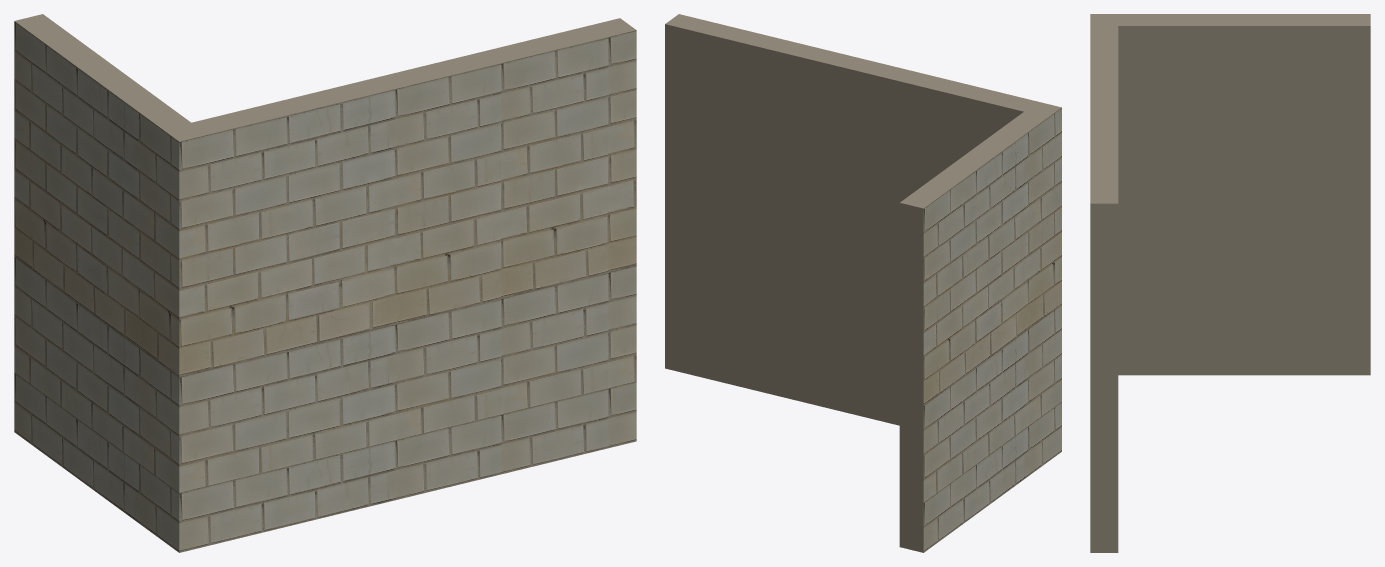
3 views of the same model, side by side, from view 1: azimuth 30°, elevation 25°; view 2: azimuth 150°, elevation 25°; view 3: azimuth 270°, elevation 25° (orthographic). The views are drawn at different scales.
Visible parts, largest first — view 1: wall; view 2: wall; view 3: wall.
Boxes of the visible parts, x1=… form: wall: x1=14, y1=14, x2=636, y2=552; wall: x1=665, y1=14, x2=1061, y2=552; wall: x1=1090, y1=14, x2=1370, y2=552.
Size of the model in its own units: 32 by 27.5 by 20.
